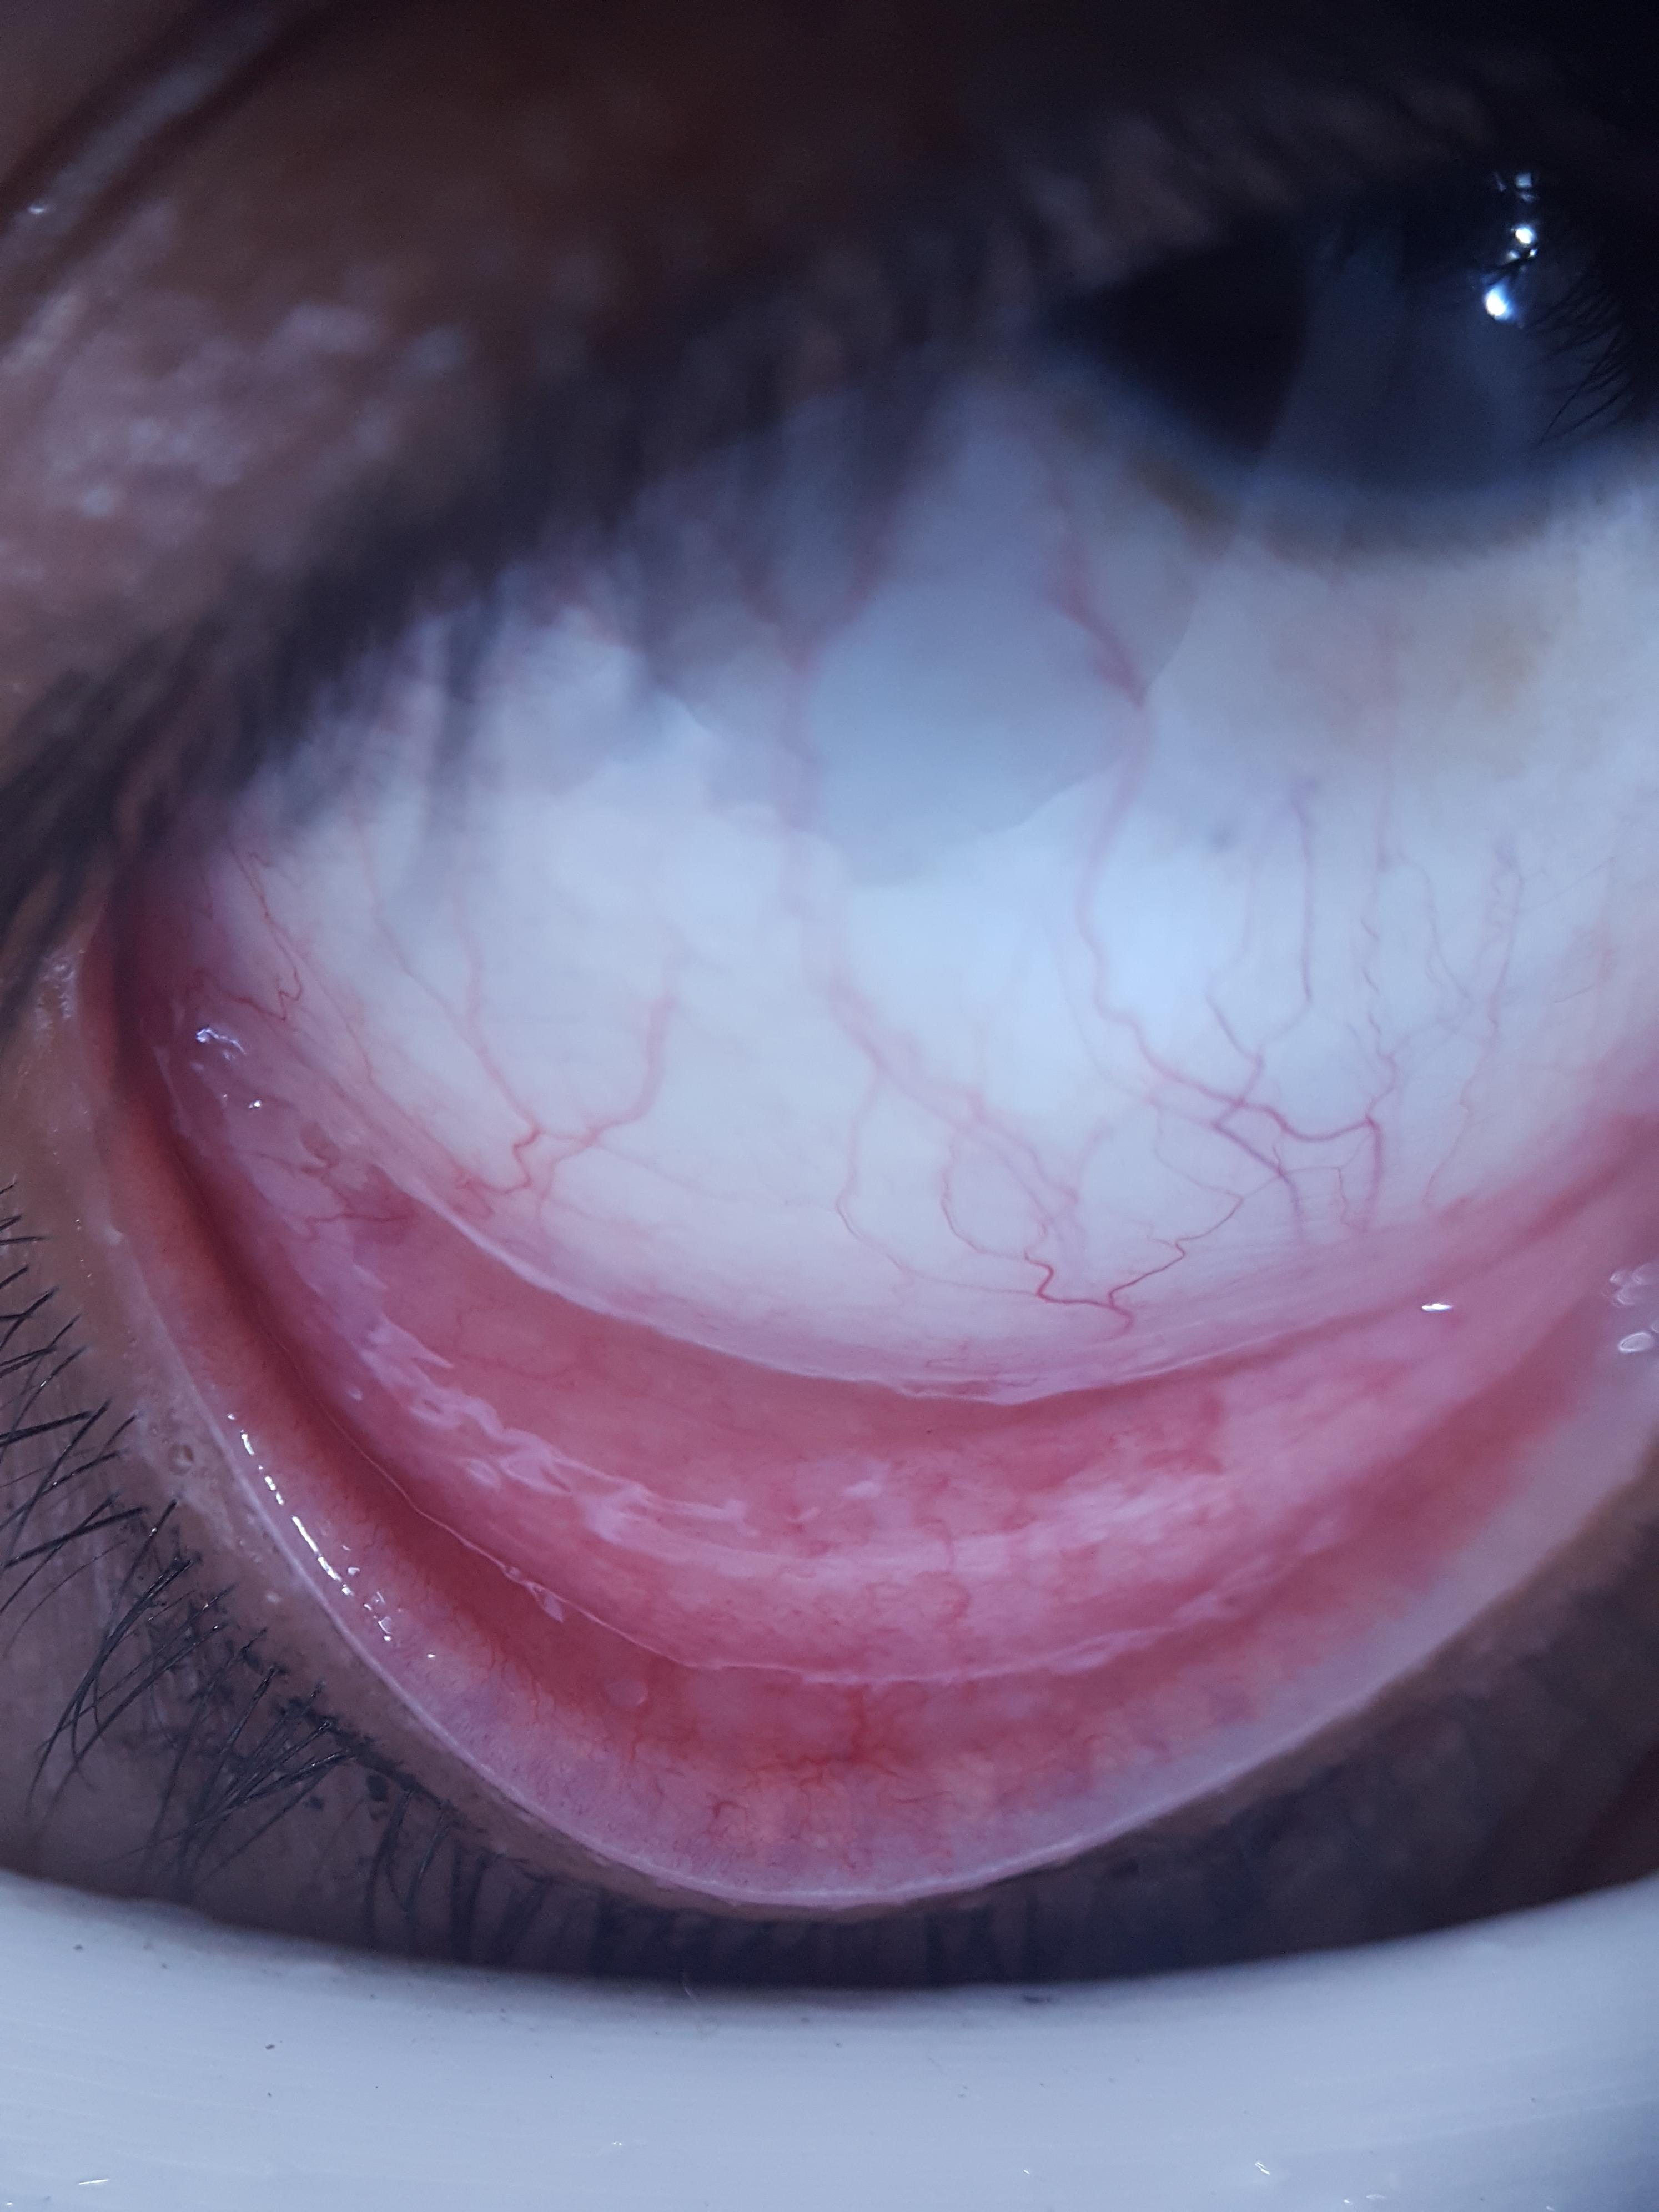forniceal: (164, 1062, 1659, 1679)
forniceal_palpebral: (117, 1038, 1659, 1832)
palpebral: (131, 1043, 1601, 1824)
